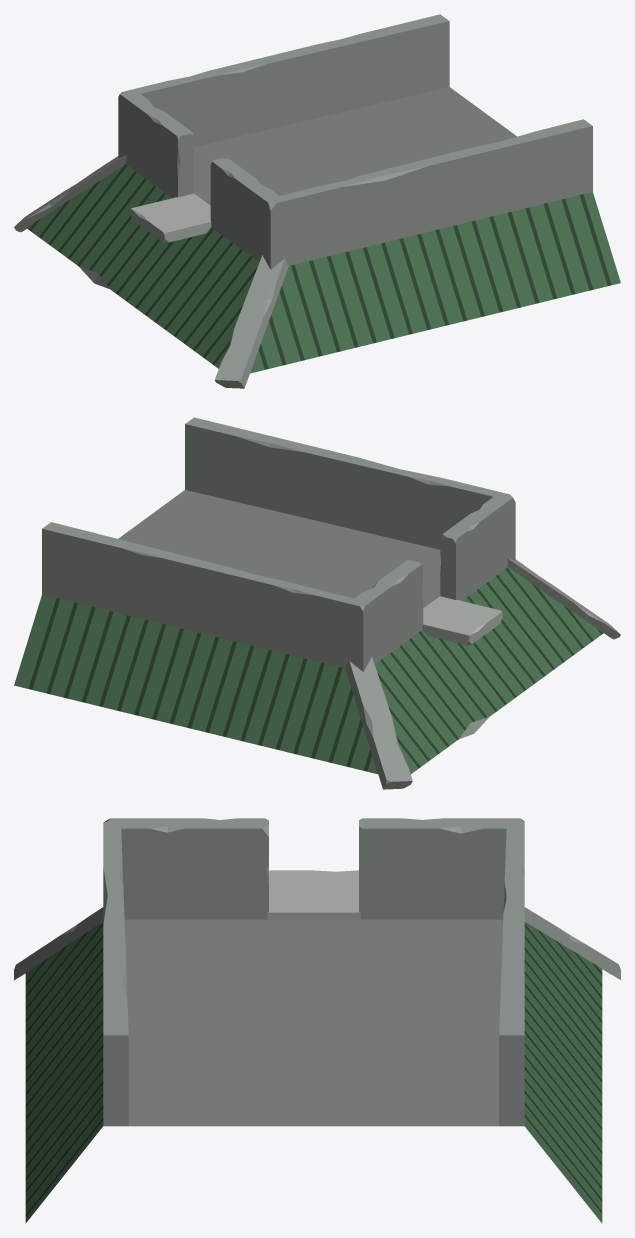
The model's file is SM_Env_Roof_13.fbx.
3 renders of one model, top to bottom at view 1: azimuth 30°, elevation 25°; view 2: azimuth 150°, elevation 25°; view 3: azimuth 270°, elevation 25°, orthographic. The views are drawn at different scales.
Parts seen in each view (by area): view 1: SM_Env_Roof_13; view 2: SM_Env_Roof_13; view 3: SM_Env_Roof_13.
Boxes of the visible parts, x1,y1,x2,y2 form: SM_Env_Roof_13: [14, 14, 620, 388]; SM_Env_Roof_13: [14, 417, 620, 789]; SM_Env_Roof_13: [14, 818, 620, 1223].
Bounding box in the file's own units: 162 × 56.23 × 153.
Materials: 1 (1 with a texture image).
